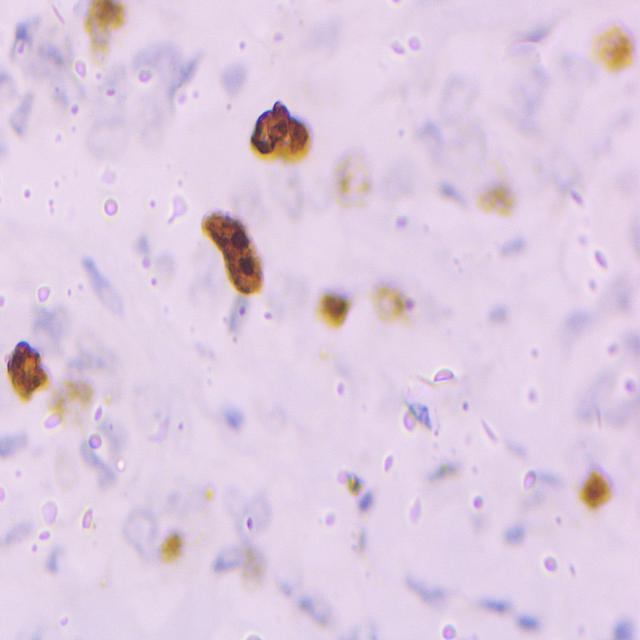Healthy cell: (437, 56, 491, 125), (242, 484, 277, 548), (117, 508, 153, 562), (385, 146, 412, 202), (0, 427, 24, 463)
cancer-cell-QiJm: (203, 199, 267, 304), (249, 96, 314, 164), (563, 459, 627, 512), (363, 266, 419, 326), (46, 370, 104, 423), (1, 338, 46, 402), (312, 279, 364, 334), (593, 19, 640, 79), (334, 147, 376, 214), (83, 0, 124, 63), (330, 462, 371, 522), (232, 540, 269, 606), (509, 0, 553, 50), (473, 172, 517, 218), (409, 456, 468, 490), (193, 476, 223, 524), (156, 530, 190, 567)
